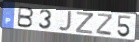3: (38, 8, 53, 30)
5: (116, 14, 132, 38)
B: (16, 6, 35, 29)
J: (58, 10, 74, 32)
Z: (75, 11, 95, 35), (95, 13, 114, 37)
